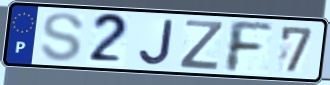2: (86, 12, 132, 69)
7: (279, 25, 314, 74)
F: (225, 18, 275, 75)
J: (136, 18, 176, 67)
S: (39, 11, 87, 64)
Z: (177, 18, 226, 72)
